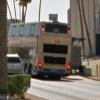Bus: (9, 18, 79, 80)
